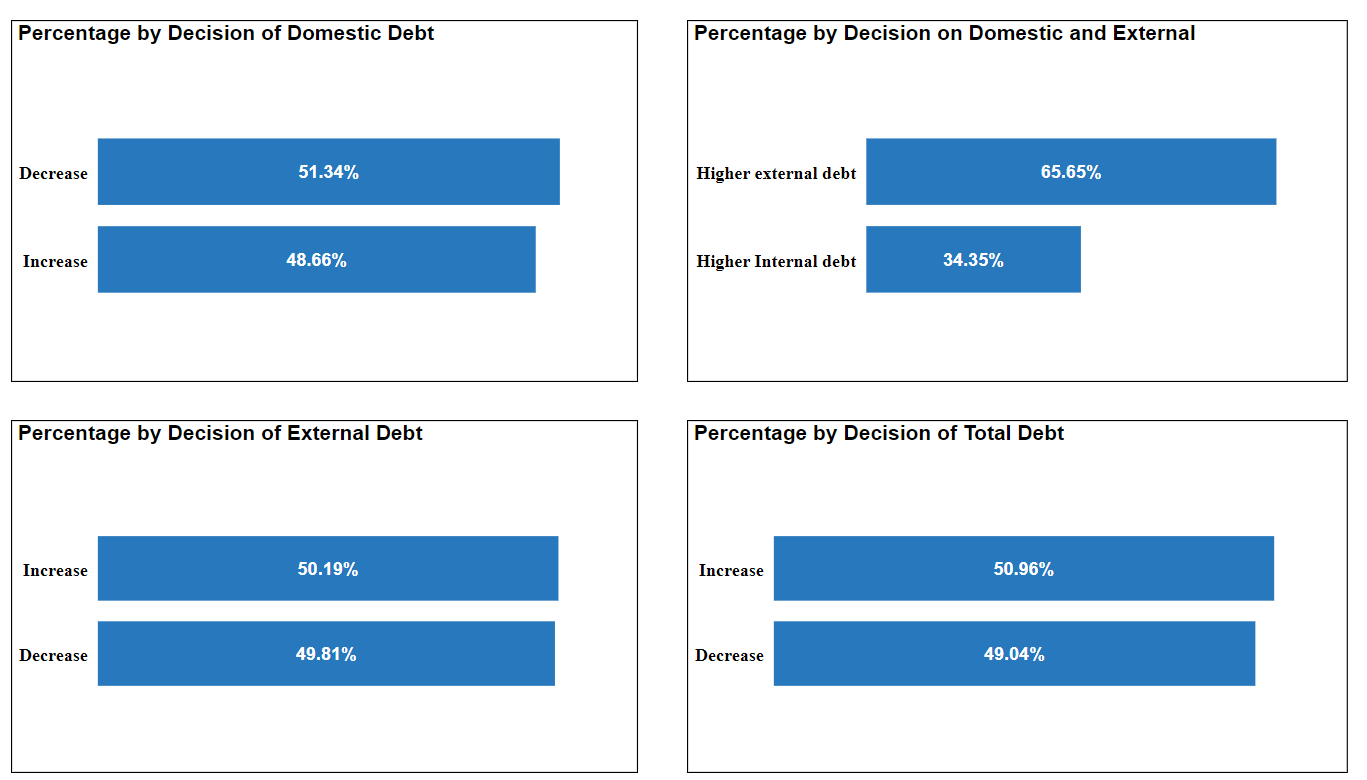

The page's visual inventory and layout, read from the dashboard file:
{"tool":"powerbi","page":{"name":"Page 4","canvas":[1280,720],"ordinal":3},"visuals":[{"type":"barChart","fields":{"Category":["Domestic_debt.Decsion_icrease_decrease_DOMESTIC"],"Y":["CountNonNull(Domestic_debt.SN)"]},"box":[9.6,38.4,555.7,321.1],"z":0},{"type":"barChart","fields":{"Y":["CountNonNull(External_debt.SN)"],"Category":["External_debt.Decsion_icrease_decrease_EXTERNAL"]},"box":[9.6,392.5,555.7,312.9],"z":1000},{"type":"barChart","fields":{"Category":["Total_debt.Decsion_icrease_decrease_TOTAL"],"Y":["CountNonNull(Total_debt.SN)"]},"box":[609.3,392.5,585.9,312.9],"z":3000},{"type":"barChart","fields":{"Y":["CountNonNull(I_D_debt.SN)"],"Category":["I_D_debt.Decision_domestic_VS_external"]},"box":[609,38,586,321],"z":3001}]}

Visuals, with their boxes in screenshot pixels (x1, y1, x2, y2), scaled from the page's 1280x720 canvas onto the 1367x780 screenshot:
barChart - Domestic_debt.Decsion_icrease_decrease_DOMESTIC x CountNonNull(Domestic_debt.SN): [10,42,604,389]
barChart - CountNonNull(External_debt.SN) x External_debt.Decsion_icrease_decrease_EXTERNAL: [10,425,604,764]
barChart - Total_debt.Decsion_icrease_decrease_TOTAL x CountNonNull(Total_debt.SN): [651,425,1276,764]
barChart - CountNonNull(I_D_debt.SN) x I_D_debt.Decision_domestic_VS_external: [650,41,1276,389]
